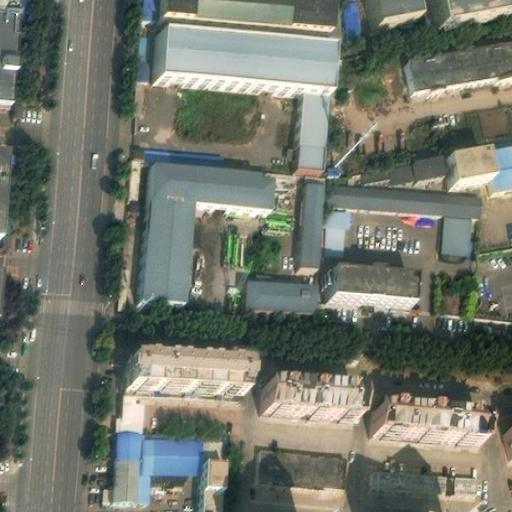building: (139, 162, 270, 300), (327, 179, 478, 251), (154, 27, 327, 85), (139, 433, 228, 494), (408, 33, 512, 83), (379, 398, 486, 440), (131, 349, 249, 387), (256, 442, 349, 482), (256, 377, 351, 411), (325, 260, 412, 297), (166, 0, 337, 18), (360, 148, 447, 181), (371, 464, 487, 488), (297, 178, 328, 263), (289, 83, 322, 162), (252, 484, 338, 512), (148, 142, 221, 169), (443, 140, 493, 178), (247, 279, 319, 304), (116, 425, 141, 494), (321, 199, 347, 265), (201, 454, 227, 512), (488, 135, 512, 182), (118, 387, 146, 426), (0, 146, 12, 233), (137, 26, 157, 70), (434, 288, 462, 316), (498, 423, 512, 471)
